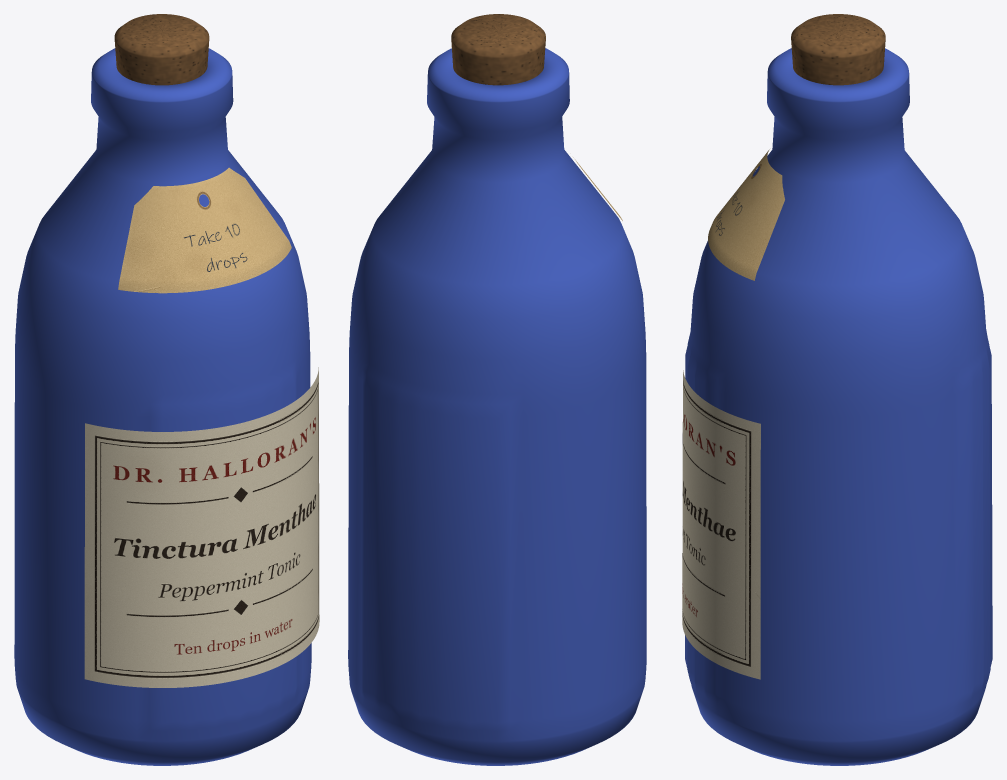
File: v2_apothecary_tonic.glb
3 views of the same model, side by side, from view 1: azimuth 30°, elevation 25°; view 2: azimuth 150°, elevation 25°; view 3: azimuth 270°, elevation 25° (orthographic).
Visible parts, largest first — view 1: Glass, Label_front, Label_tag, Cap; view 2: Glass, Cap; view 3: Glass, Label_front, Cap, Label_tag.
Part boxes in pixels (box(x1,y1,x2,y2)): Glass: box(14, 48, 311, 765); Label_front: box(84, 367, 319, 687); Label_tag: box(118, 167, 291, 293); Cap: box(114, 14, 209, 85); Glass: box(348, 48, 646, 765); Cap: box(451, 14, 545, 85); Glass: box(685, 48, 992, 765); Label_front: box(682, 370, 760, 679); Cap: box(791, 14, 885, 85); Label_tag: box(708, 149, 784, 280).
Size of the model in its own units: 0.0463 by 0.1177 by 0.0484.
Materials: 5 (3 with a texture image).
